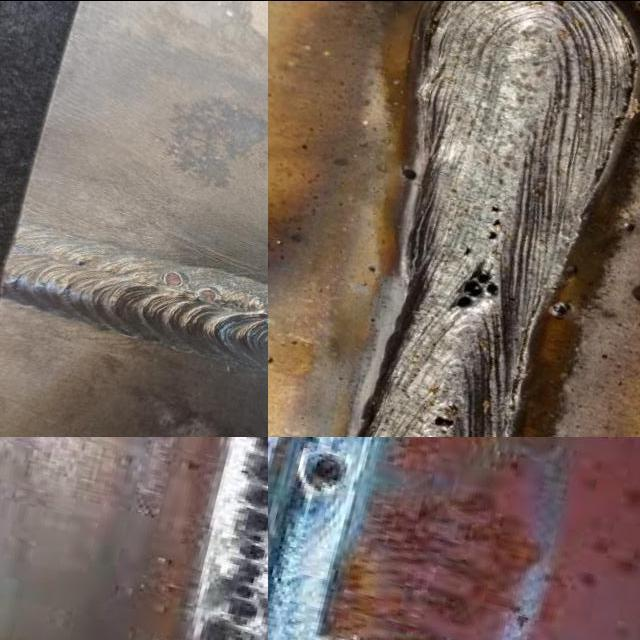defect: (219, 436, 268, 634), (291, 445, 357, 499), (446, 256, 503, 312), (483, 203, 506, 244), (156, 267, 186, 289), (192, 287, 221, 307), (431, 414, 457, 436), (400, 166, 418, 183), (71, 257, 87, 270), (460, 246, 472, 257)
